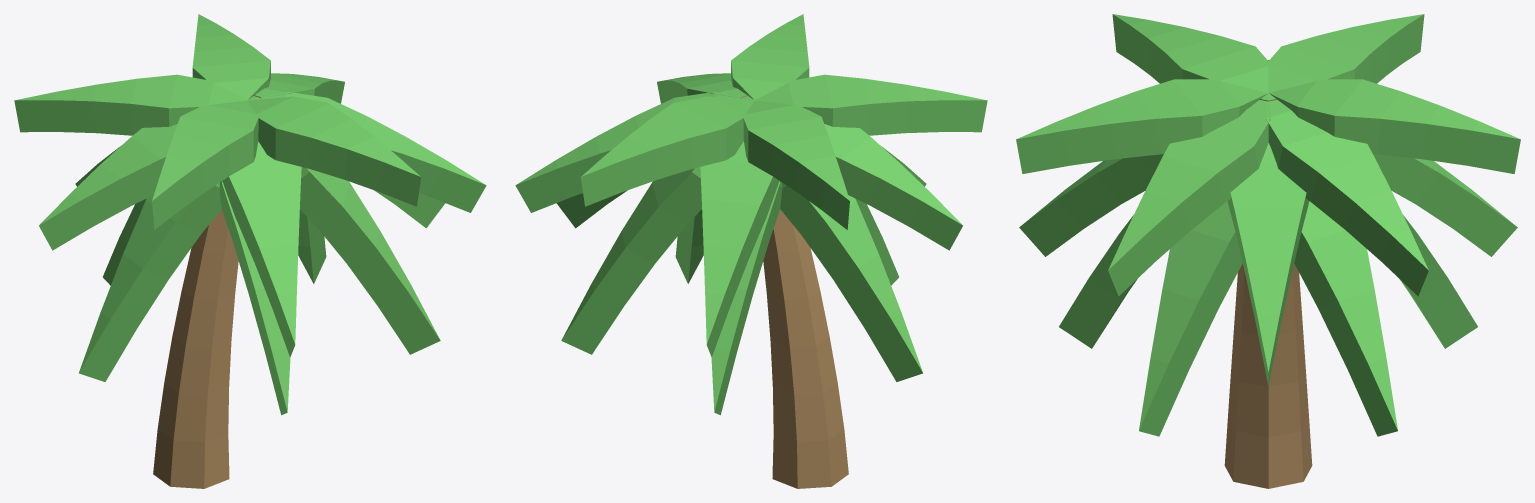
The model's file is PalmTree3_LOD0_roblox.fbx.
The picture shows the model from 3 angles, left to right: view 1: azimuth 30°, elevation 25°; view 2: azimuth 150°, elevation 25°; view 3: azimuth 270°, elevation 25°; orthographic projection. The views are drawn at different scales.
Parts seen in each view (by area): view 1: PalmTree3_LeafMat, PalmTree3_TrunkMat.004; view 2: PalmTree3_LeafMat, PalmTree3_TrunkMat.004; view 3: PalmTree3_LeafMat, PalmTree3_TrunkMat.004.
Part boxes in pixels (x1,y1,x2,y2): PalmTree3_LeafMat: [14, 14, 486, 415]; PalmTree3_TrunkMat.004: [153, 95, 261, 488]; PalmTree3_LeafMat: [515, 14, 987, 415]; PalmTree3_TrunkMat.004: [740, 95, 848, 488]; PalmTree3_LeafMat: [1016, 14, 1520, 436]; PalmTree3_TrunkMat.004: [1224, 99, 1312, 488].
Size of the model in its own units: 10.72 by 10.12 by 9.14.
